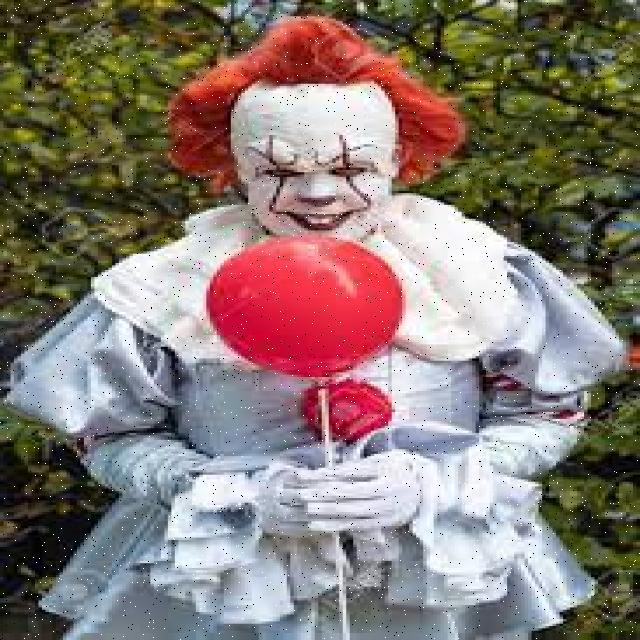red: (195, 227, 422, 380)
